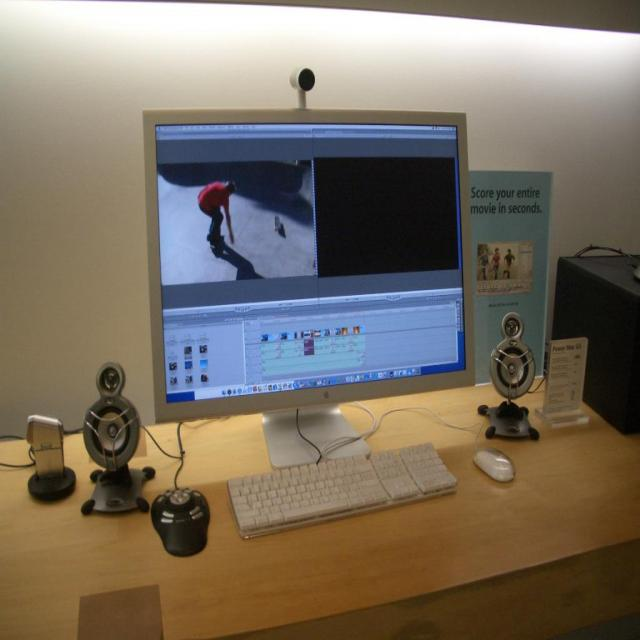desk: (9, 270, 640, 626)
keyboard: (227, 440, 457, 540)
mouse: (150, 488, 211, 558), (472, 447, 516, 482)
tv: (142, 112, 471, 424)
